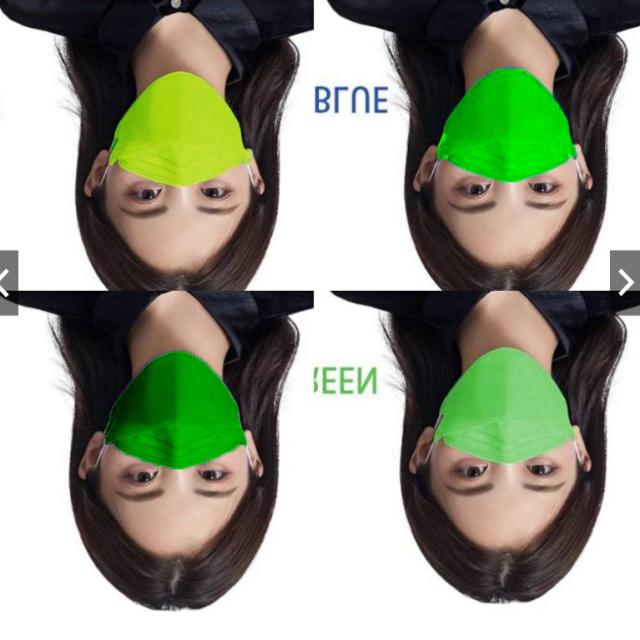mask: (97, 58, 260, 196), (424, 58, 588, 192), (94, 341, 256, 476), (424, 336, 582, 472)
